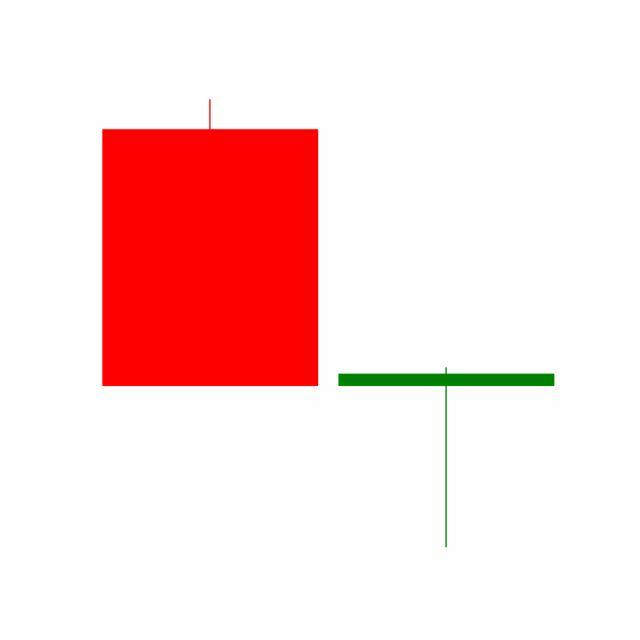Dragonfly Doji: (328, 365, 566, 550)
